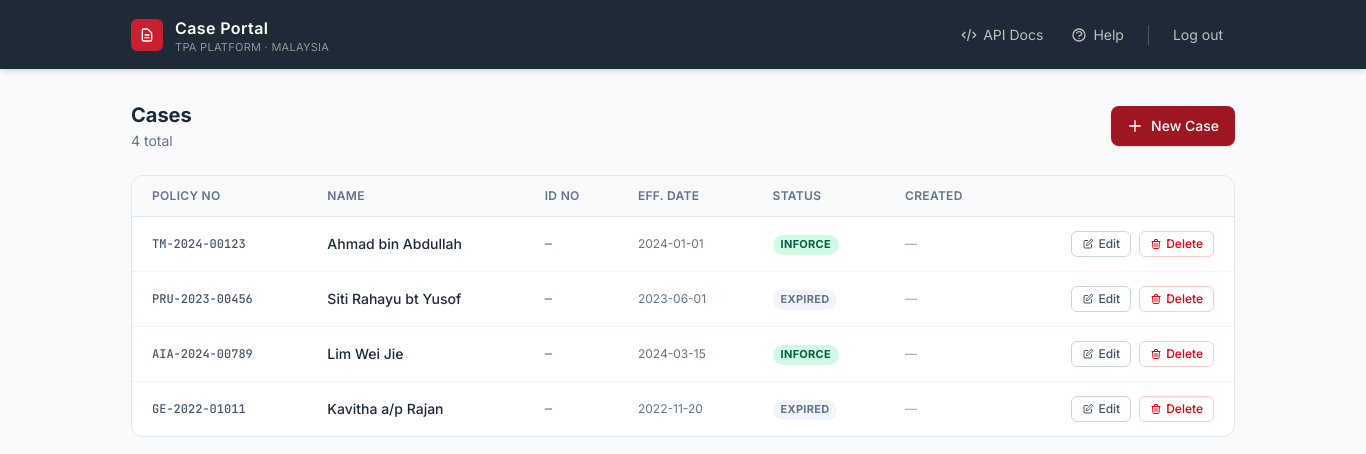
Test: Case Listing page › removes a case from the list after confirming delete
Expected: the text "Ahmad bin Abdullah" is shown, [307, 216, 525, 272]
Click the button "Delete" in the row of "TM-2024-00123": (1177, 244) [1139, 231, 1214, 257]
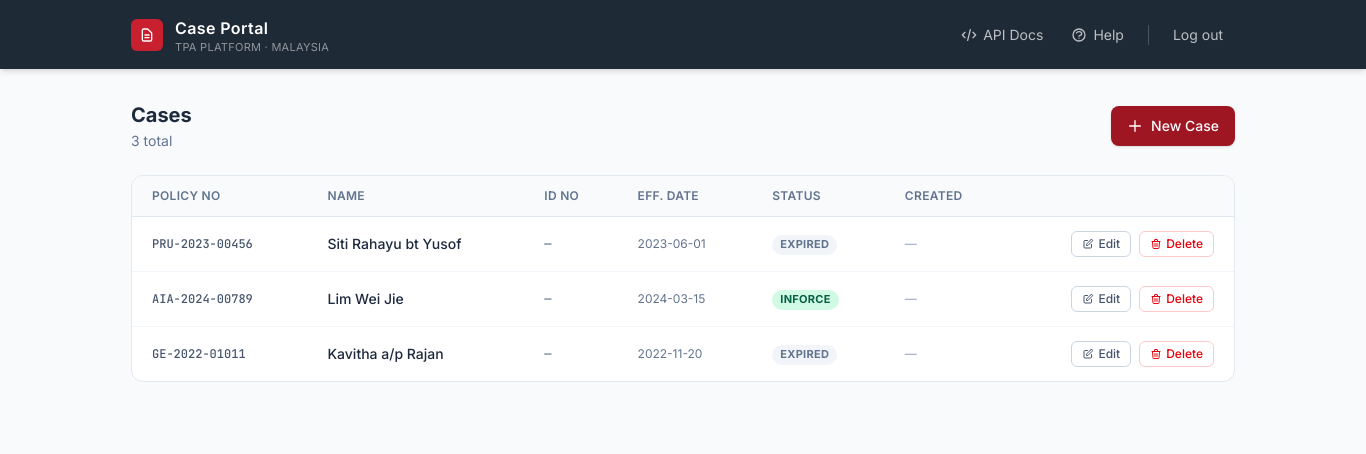
Expected: the text "Ahmad bin Abdullah" is gone
